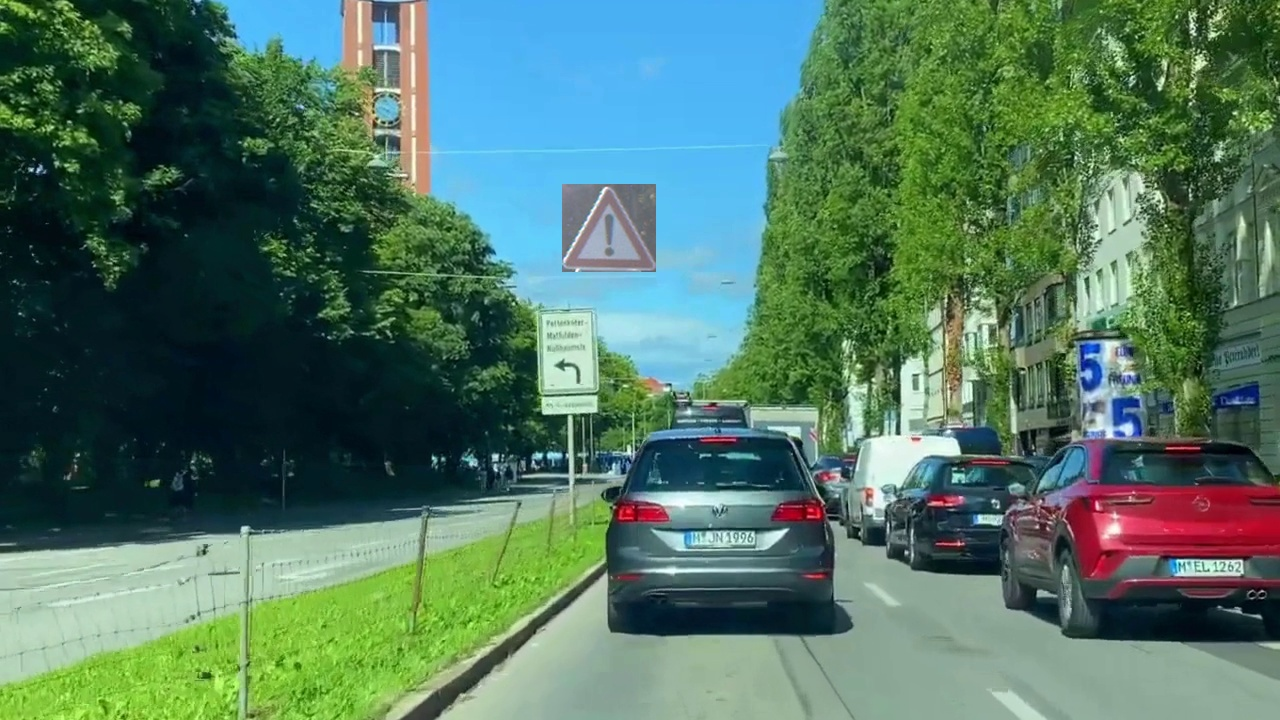Caution: (562, 184, 656, 272)
